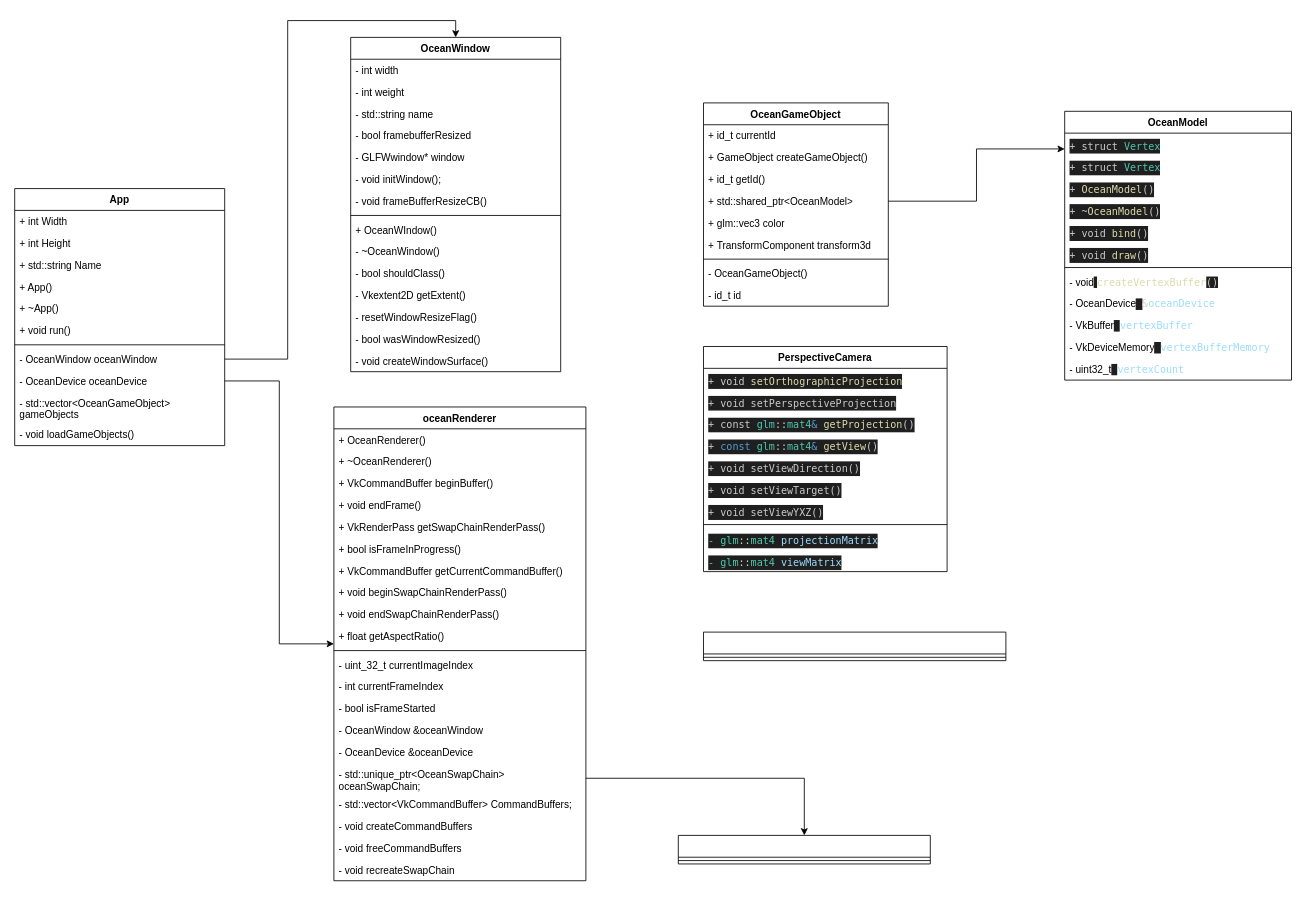
The diagram is 1306 pixels wide and 898 high, and some of its shapes have lost their labels. The shapes that lost their labels are listed below. From the top down, each one's centre as x and y in pixels, then its label:
the point at 854,646: OceanPipeline
the point at 803,849: OceanSwapChain
